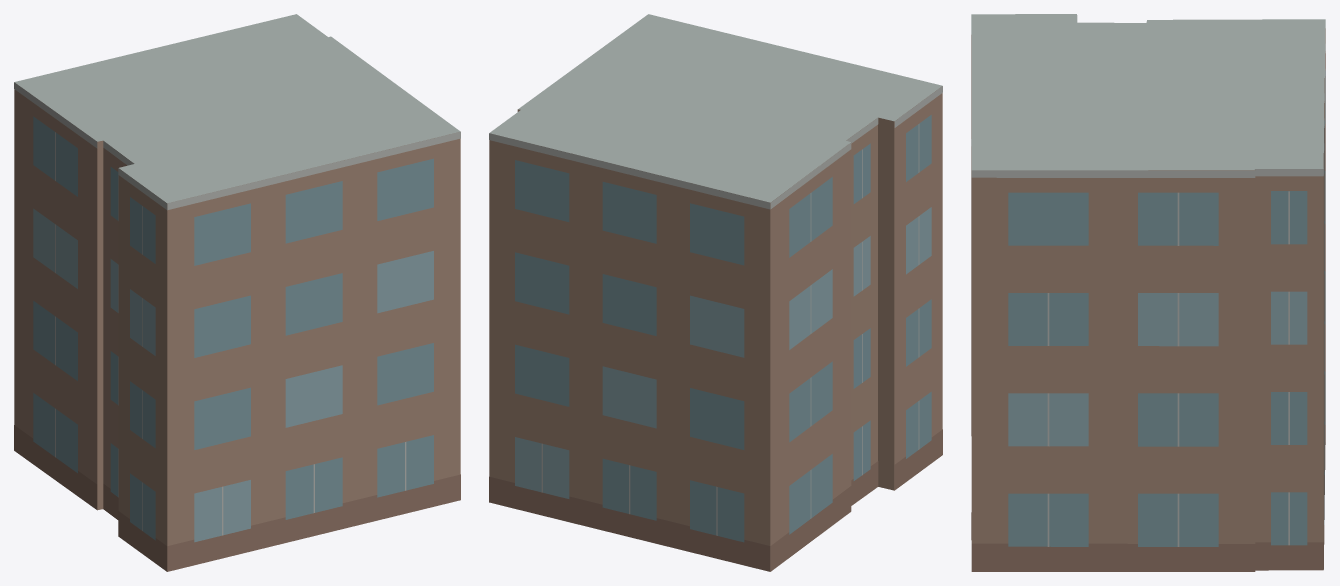
The model's file is survey-upis-32823879.glb.
The picture shows the model from 3 angles, left to right: view 1: azimuth 30°, elevation 25°; view 2: azimuth 150°, elevation 25°; view 3: azimuth 270°, elevation 25°; orthographic projection. The views are drawn at different scales.
Parts seen in each view (by area): view 1: survey-upis-32823879.tmp; view 2: survey-upis-32823879.tmp; view 3: survey-upis-32823879.tmp.
Boxes of the visible parts, x1,y1,x2,y2 form: survey-upis-32823879.tmp: (14, 14, 460, 571); survey-upis-32823879.tmp: (489, 14, 942, 571); survey-upis-32823879.tmp: (971, 14, 1325, 571).
Size of the model in its own units: 10.87 by 13 by 10.41.
